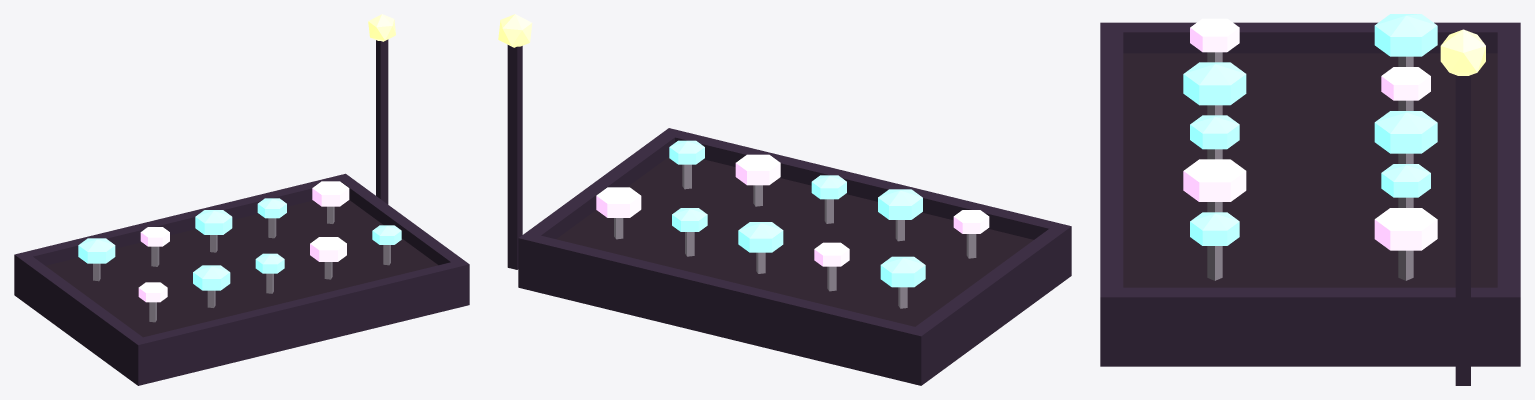
File: potager_modele.glb
3 renders of one model, left to right at view 1: azimuth 30°, elevation 25°; view 2: azimuth 150°, elevation 25°; view 3: azimuth 270°, elevation 25°, orthographic. The views are drawn at different scales.
Visible parts, largest first — view 1: P1.011, P4.013, P2.011, P5.005, P3.006, P26.011, P9.011, P17.010, P25.009, P21.010, P13.012, P27.011 (+5 smaller); view 2: P1.011, P5.005, P2.011, P4.013, P3.006, P26.011, P13.012, P17.010, P21.010, P25.009, P9.011, P27.011 (+5 smaller); view 3: P1.011, P3.006, P2.011, P5.005, P4.013, P26.011, P9.011, P17.010, P21.010, P13.012, P25.009, P27.011 (+7 smaller).
Part boxes in pixels (x1=…): P1.011: x1=45, y1=200, x2=437, y2=337; P4.013: x1=131, y1=259, x2=469, y2=385; P2.011: x1=17, y1=254, x2=146, y2=383; P5.005: x1=14, y1=173, x2=349, y2=299; P3.006: x1=337, y1=176, x2=462, y2=265; P26.011: x1=376, y1=39, x2=388, y2=204; P9.011: x1=193, y1=265, x2=230, y2=290; P17.010: x1=78, y1=238, x2=115, y2=263; P25.009: x1=312, y1=181, x2=349, y2=206; P21.010: x1=195, y1=210, x2=232, y2=234; P13.012: x1=310, y1=237, x2=346, y2=261; P27.011: x1=368, y1=14, x2=395, y2=41; P1.011: x1=556, y1=157, x2=1033, y2=326; P5.005: x1=518, y1=232, x2=928, y2=385; P2.011: x1=911, y1=229, x2=1068, y2=382; P4.013: x1=661, y1=128, x2=1071, y2=281; P3.006: x1=527, y1=130, x2=678, y2=238; P26.011: x1=507, y1=45, x2=522, y2=269; P13.012: x1=735, y1=154, x2=780, y2=185; P17.010: x1=880, y1=256, x2=925, y2=287; P21.010: x1=738, y1=222, x2=783, y2=252; P25.009: x1=596, y1=187, x2=641, y2=217; P9.011: x1=878, y1=189, x2=922, y2=219; P27.011: x1=498, y1=14, x2=532, y2=47; P1.011: x1=1123, y1=53, x2=1497, y2=287; P3.006: x1=1109, y1=287, x2=1511, y2=366; P2.011: x1=1109, y1=22, x2=1511, y2=53; P5.005: x1=1497, y1=22, x2=1520, y2=366; P4.013: x1=1100, y1=22, x2=1123, y2=366; P26.011: x1=1455, y1=75, x2=1470, y2=385; P9.011: x1=1183, y1=62, x2=1246, y2=105; P17.010: x1=1374, y1=14, x2=1437, y2=56; P21.010: x1=1374, y1=111, x2=1437, y2=153; P13.012: x1=1183, y1=159, x2=1246, y2=201; P25.009: x1=1374, y1=208, x2=1437, y2=250; P27.011: x1=1440, y1=29, x2=1485, y2=75.
Bounding box in the file's own units: 1.86 × 1.02 × 1.1.
